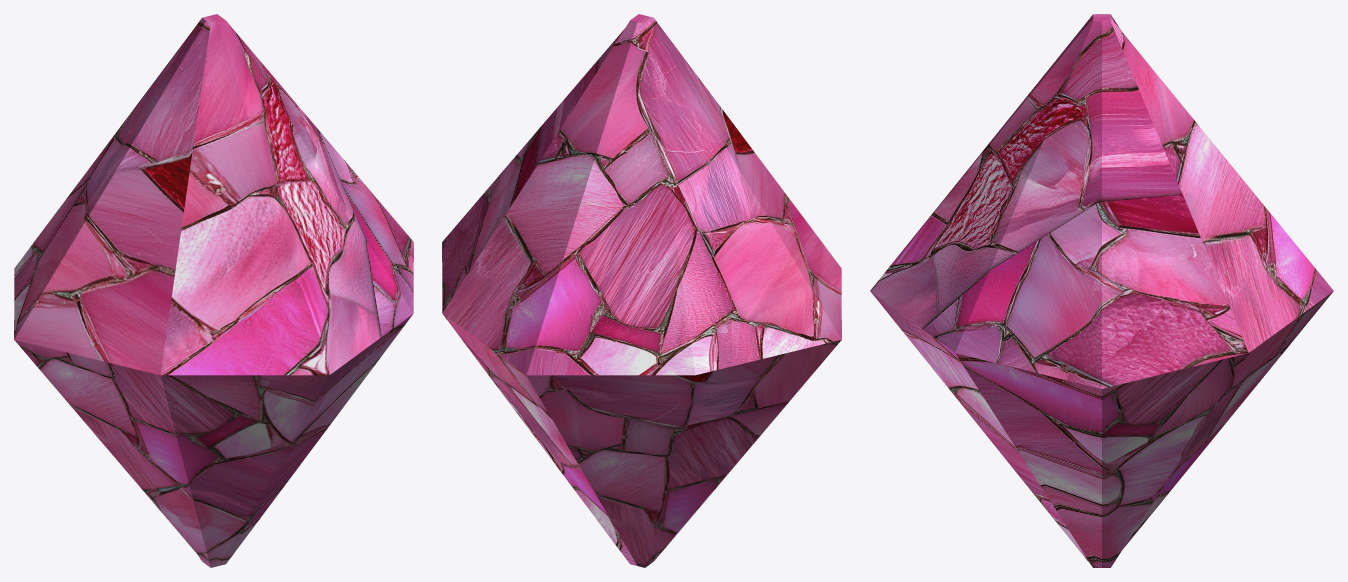
File: gemstone2Pink.glb
3 renders of one model, left to right at view 1: azimuth 30°, elevation 25°; view 2: azimuth 150°, elevation 25°; view 3: azimuth 270°, elevation 25°, orthographic.
Visible parts, largest first — view 1: gemstone1; view 2: gemstone1; view 3: gemstone1.
Boxes of the visible parts, bbox=[...] form: gemstone1: bbox=[14, 14, 413, 567]; gemstone1: bbox=[442, 14, 841, 567]; gemstone1: bbox=[870, 14, 1333, 567].
Size of the model in its own units: 1 by 1.3 by 1.
Materials: 1 (1 with a texture image).
